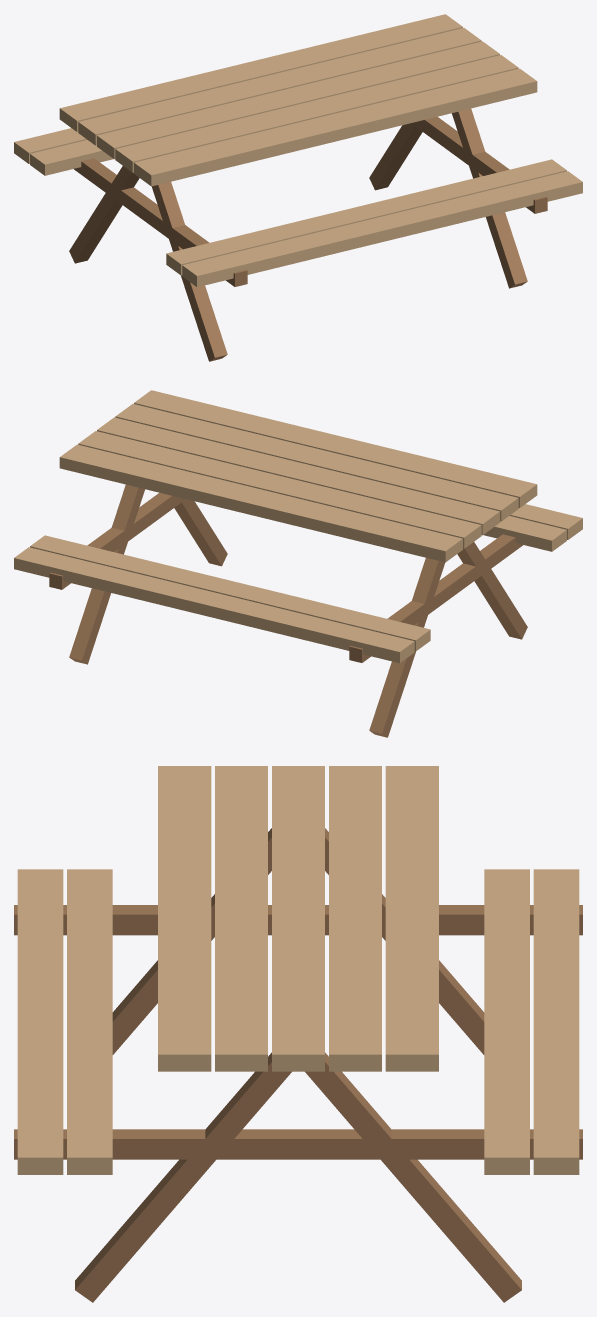
File: SM_PicnicTable.fbx
3 renders of one model, top to bottom at view 1: azimuth 30°, elevation 25°; view 2: azimuth 150°, elevation 25°; view 3: azimuth 270°, elevation 25°, orthographic. The views are drawn at different scales.
Visible parts, largest first — view 1: SM_PicnicTable; view 2: SM_PicnicTable; view 3: SM_PicnicTable.
Boxes of the visible parts, <box> form: SM_PicnicTable: <box>14,14,582,361</box>; SM_PicnicTable: <box>14,390,582,737</box>; SM_PicnicTable: <box>14,766,582,1302</box>.
Size of the model in its own units: 1.8 by 0.8017 by 1.5.
